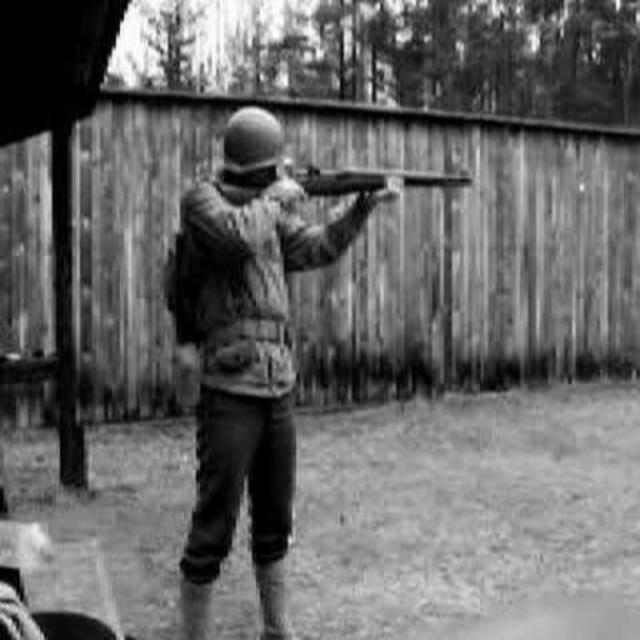other: (171, 107, 323, 639)
